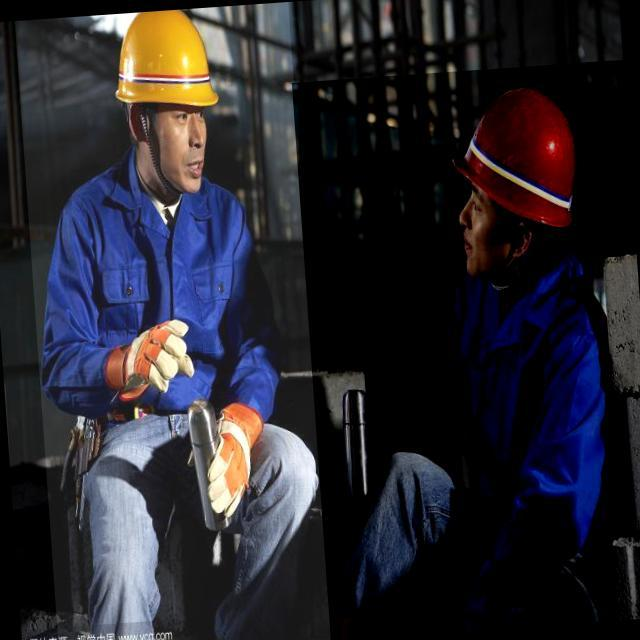Gloves: (169, 414, 275, 531), (103, 314, 212, 414)
Helmet: (441, 73, 591, 241), (99, 6, 234, 119)
Person: (30, 10, 324, 640), (345, 55, 638, 640)
no-vest: (398, 254, 628, 619), (45, 145, 286, 428)
